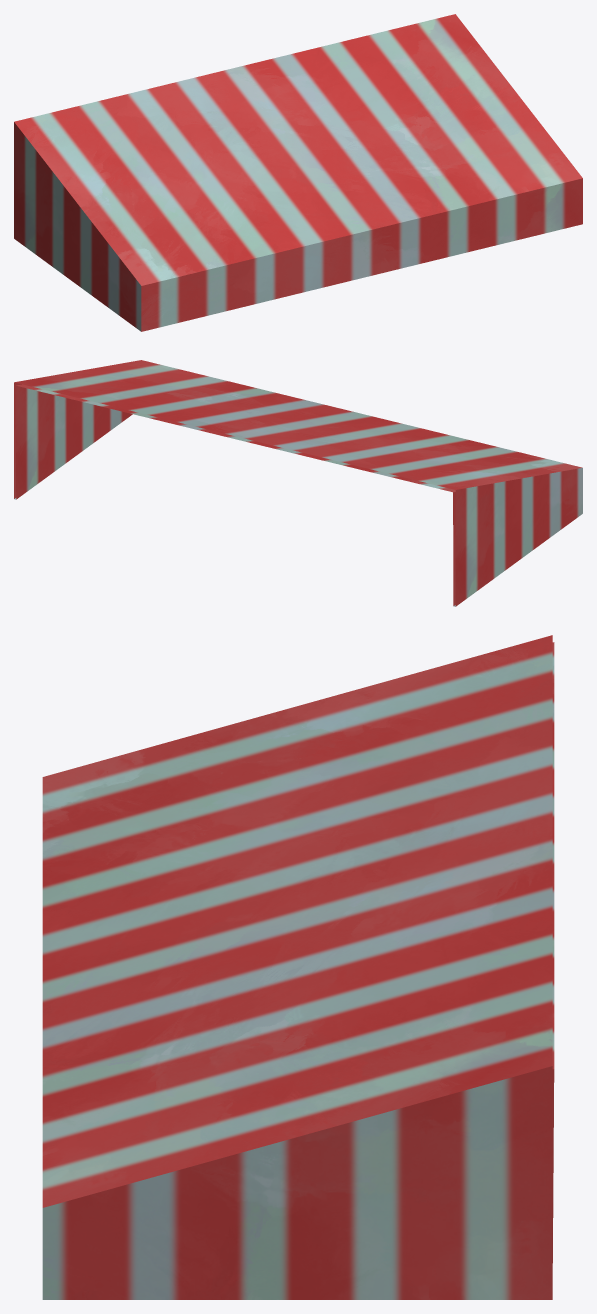
The model's file is Awning.fbx.
The picture shows the model from 3 angles, top to bottom: view 1: azimuth 30°, elevation 25°; view 2: azimuth 150°, elevation 25°; view 3: azimuth 270°, elevation 25°; orthographic projection. The views are drawn at different scales.
Visible parts, largest first — view 1: Awning; view 2: Awning; view 3: Awning.
Part boxes in pixels (x1=…): Awning: x1=14, y1=14, x2=582, y2=331; Awning: x1=14, y1=360, x2=582, y2=606; Awning: x1=42, y1=635, x2=554, y2=1299.
Size of the model in its own units: 200 by 50.61 by 100.
